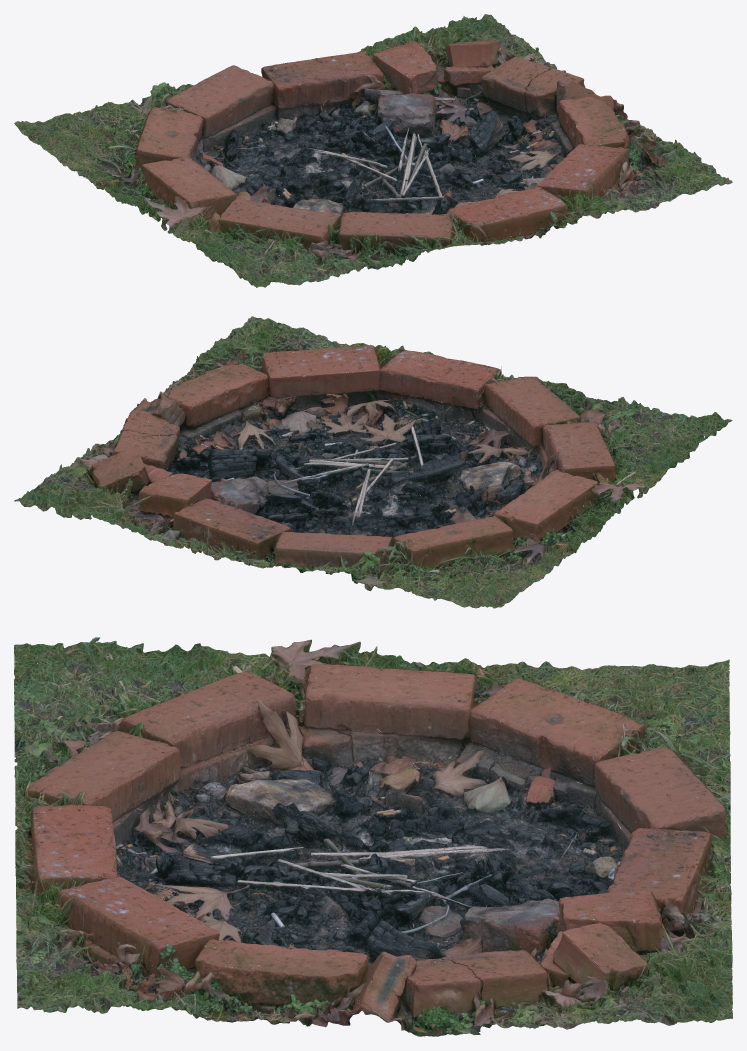
Rendered from sf-round-red-brick-campfire-090a45.glb.
3 views of the same model, one above another, from view 1: azimuth 30°, elevation 25°; view 2: azimuth 150°, elevation 25°; view 3: azimuth 270°, elevation 25° (orthographic). The views are drawn at different scales.
Visible parts, largest first — view 1: Model_material1_0, Model_material0_0, Model_material2_0; view 2: Model_material1_0, Model_material2_0, Model_material0_0; view 3: Model_material2_0, Model_material1_0, Model_material0_0.
Part boxes in pixels (<box>): Model_material1_0: <box>35,16,732,281</box>; Model_material0_0: <box>14,26,696,276</box>; Model_material2_0: <box>62,14,718,287</box>; Model_material1_0: <box>33,316,705,607</box>; Model_material2_0: <box>14,326,732,584</box>; Model_material0_0: <box>60,333,710,608</box>; Model_material2_0: <box>14,641,732,1036</box>; Model_material1_0: <box>14,637,732,1031</box>; Model_material0_0: <box>14,637,730,1035</box>.
Size of the model in its own units: 15.56 by 1.73 by 13.6.
Materials: 3 (3 with a texture image).
